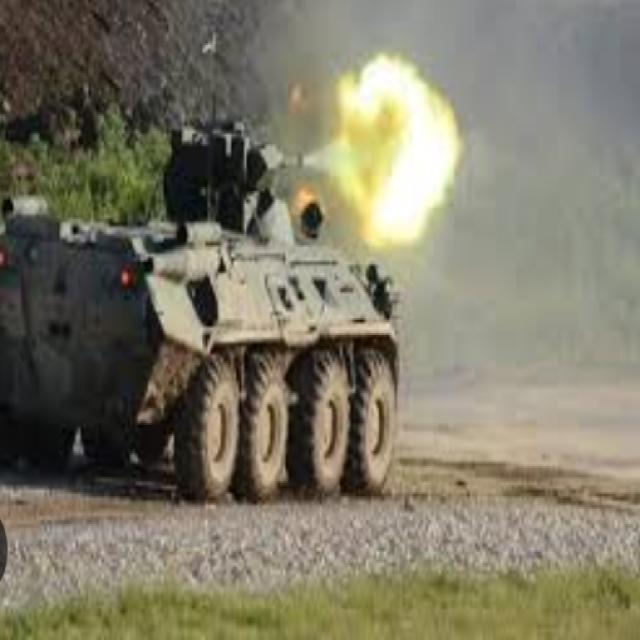MIL_APC: (5, 126, 434, 499)
